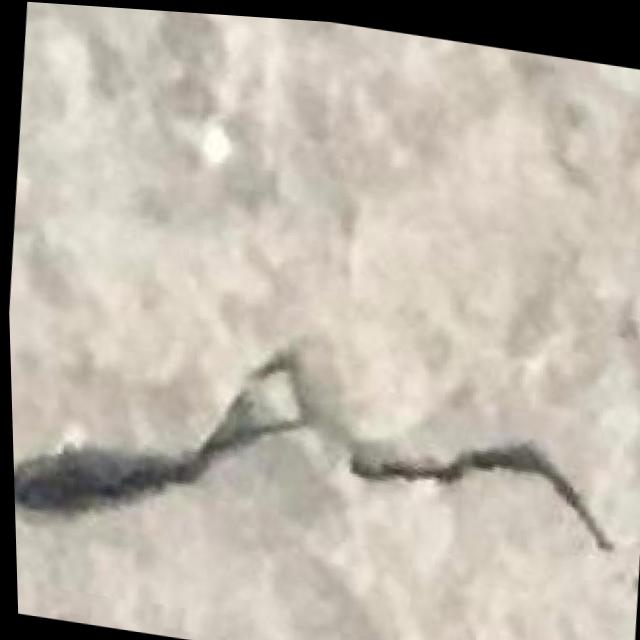Crack: (7, 294, 632, 599)
